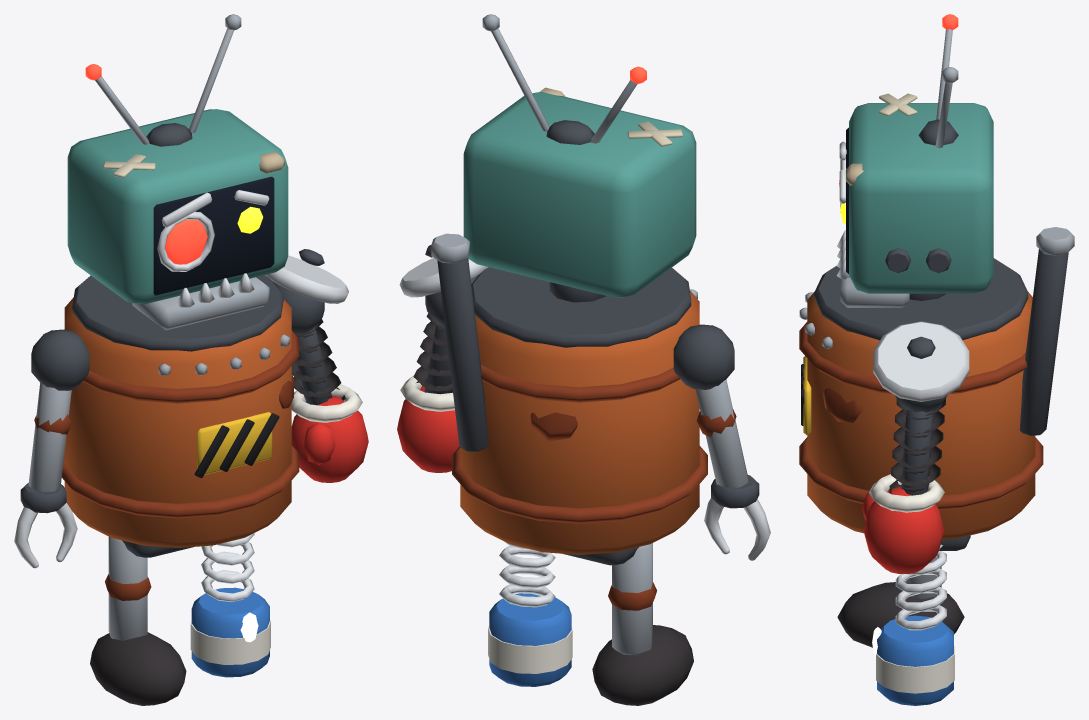
The model's file is npc_scrap_robot.glb.
3 views of the same model, side by side, from view 1: azimuth 30°, elevation 25°; view 2: azimuth 150°, elevation 25°; view 3: azimuth 270°, elevation 25° (orthographic). The views are drawn at different scales.
Parts seen in each view (by area): view 1: Body, Head, ArmR, LegL, ArmL, LegR, Jaw; view 2: Body, Head, LegL, ArmL, LegR, ArmR; view 3: Body, Head, ArmR, LegR, LegL, Jaw.
Boxes of the visible parts, box(x1,y1,x2,y2) form: Body: box(61, 275, 299, 557); Head: box(67, 14, 288, 303); ArmR: box(265, 249, 368, 482); LegL: box(90, 537, 186, 705); ArmL: box(14, 329, 89, 568); LegR: box(190, 533, 270, 677); Jaw: box(132, 273, 269, 330); Body: box(431, 233, 707, 565); Head: box(463, 14, 696, 297); LegL: box(592, 543, 693, 705); ArmL: box(673, 324, 770, 560); LegR: box(488, 541, 572, 686); ArmR: box(397, 245, 488, 472); Body: box(799, 227, 1074, 550); Head: box(839, 14, 993, 293); ArmR: box(861, 321, 969, 573); LegR: box(872, 544, 954, 705); LegL: box(837, 557, 964, 647); Jaw: box(837, 230, 909, 307).
Bounding box in the file's own units: 0.6966 × 1.22 × 0.4757.
